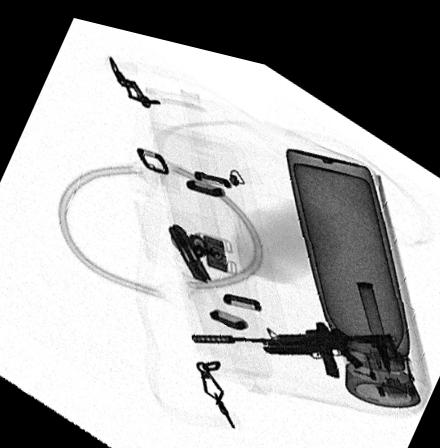Bullet: (355, 263, 390, 358)
Gun: (189, 305, 399, 362)
